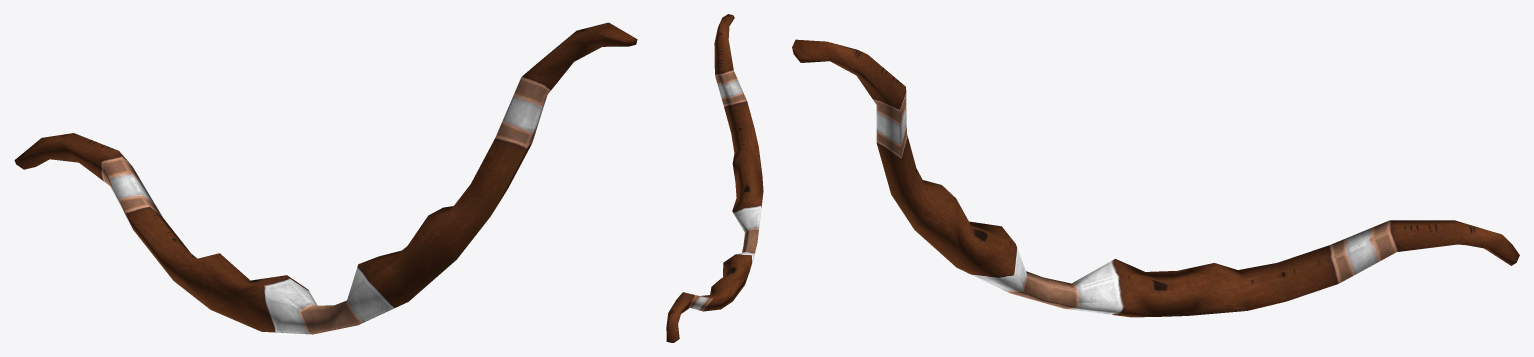
Rendered from rider-weapon-slice-base.glb.
3 views of the same model, side by side, from view 1: azimuth 30°, elevation 25°; view 2: azimuth 150°, elevation 25°; view 3: azimuth 270°, elevation 25° (orthographic). The views are drawn at different scales.
Size of the model in its own units: 0.4548 by 0.6053 by 1.07.
1 material, 1 textured.
